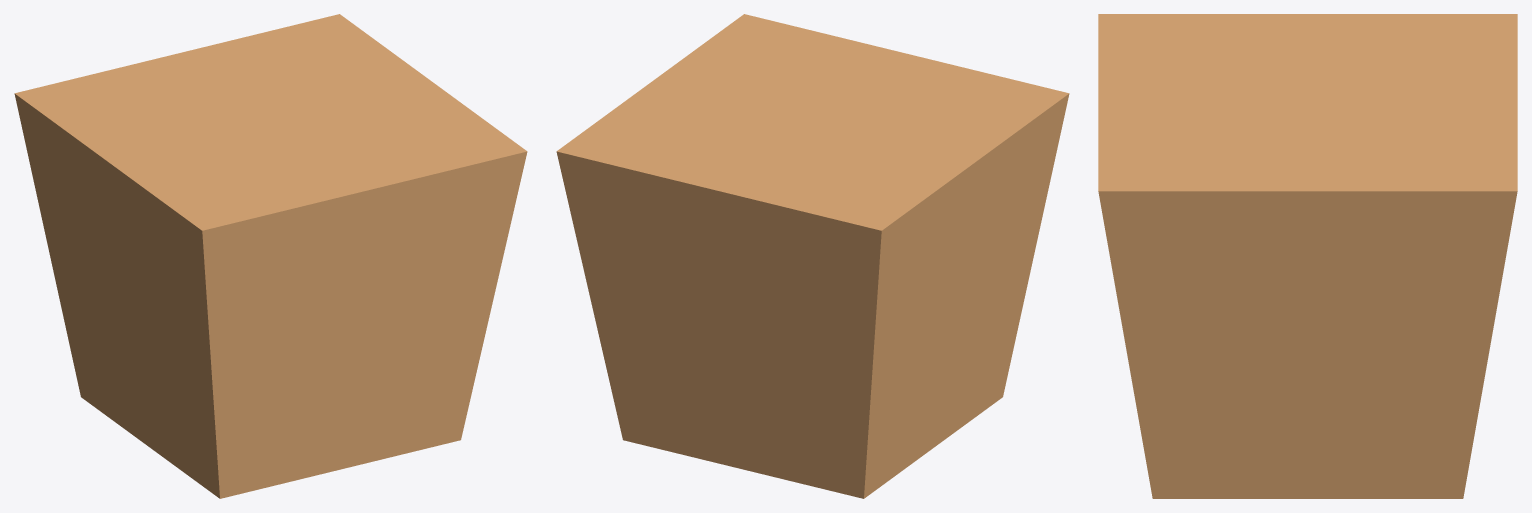
File: morph_cube.glb
The picture shows the model from 3 angles, left to right: view 1: azimuth 30°, elevation 25°; view 2: azimuth 150°, elevation 25°; view 3: azimuth 270°, elevation 25°; orthographic projection. The views are drawn at different scales.
Visible parts, largest first — view 1: MorphCube; view 2: MorphCube; view 3: MorphCube.
Part boxes in pixels (<box>): MorphCube: <box>14,14,527,498</box>; MorphCube: <box>556,14,1069,498</box>; MorphCube: <box>1098,14,1517,498</box>.
Size of the model in its own units: 2.7 by 2.35 by 2.7.
